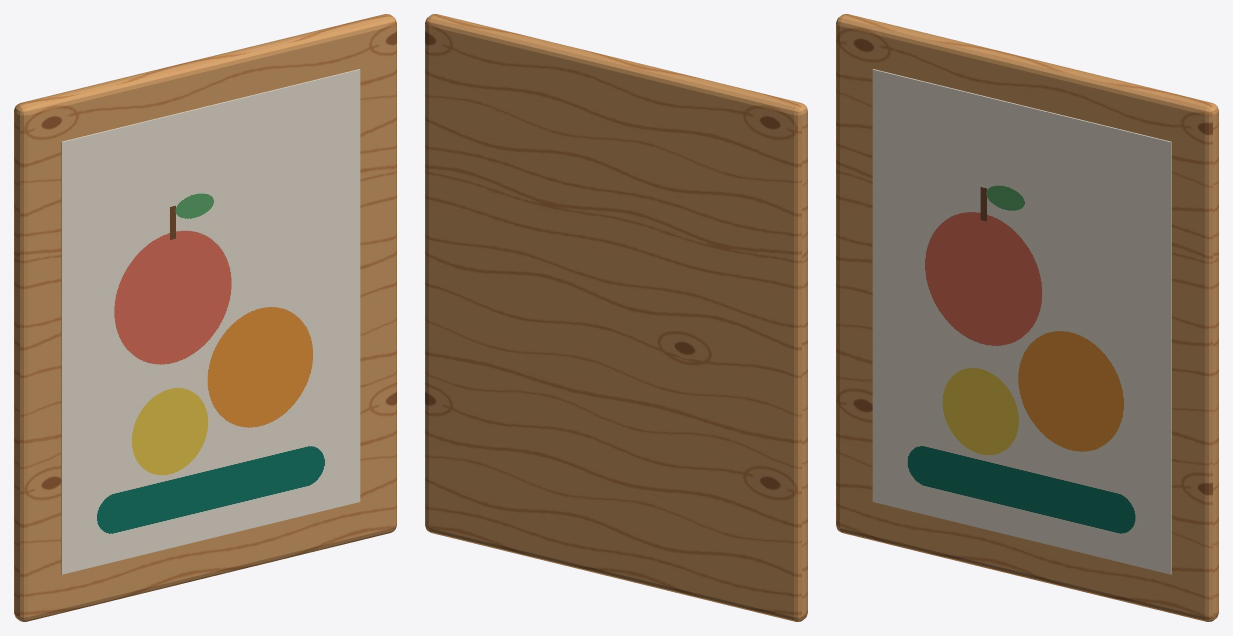
File: poster_b.glb
3 renders of one model, left to right at view 1: azimuth 30°, elevation 25°; view 2: azimuth 150°, elevation 25°; view 3: azimuth 330°, elevation 25°, orthographic.
Parts seen in each view (by area): view 1: pic, box; view 2: box; view 3: pic, box.
Part boxes in pixels (x1=…): pic: x1=61, y1=69, x2=360, y2=574; box: x1=14, y1=14, x2=396, y2=621; box: x1=425, y1=14, x2=807, y2=621; pic: x1=872, y1=69, x2=1171, y2=574; box: x1=836, y1=14, x2=1218, y2=621.
Size of the model in its own units: 0.66 by 0.86 by 0.032.
Materials: 2 (2 with a texture image).
